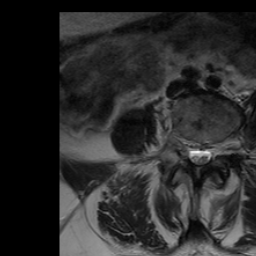CCS_normal: (195, 139, 203, 173)
LFS_normal: (212, 134, 221, 165)
LLS_normal: (204, 143, 212, 169)
RFS_normal: (176, 133, 186, 166)
RLS_normal: (186, 140, 195, 169)
